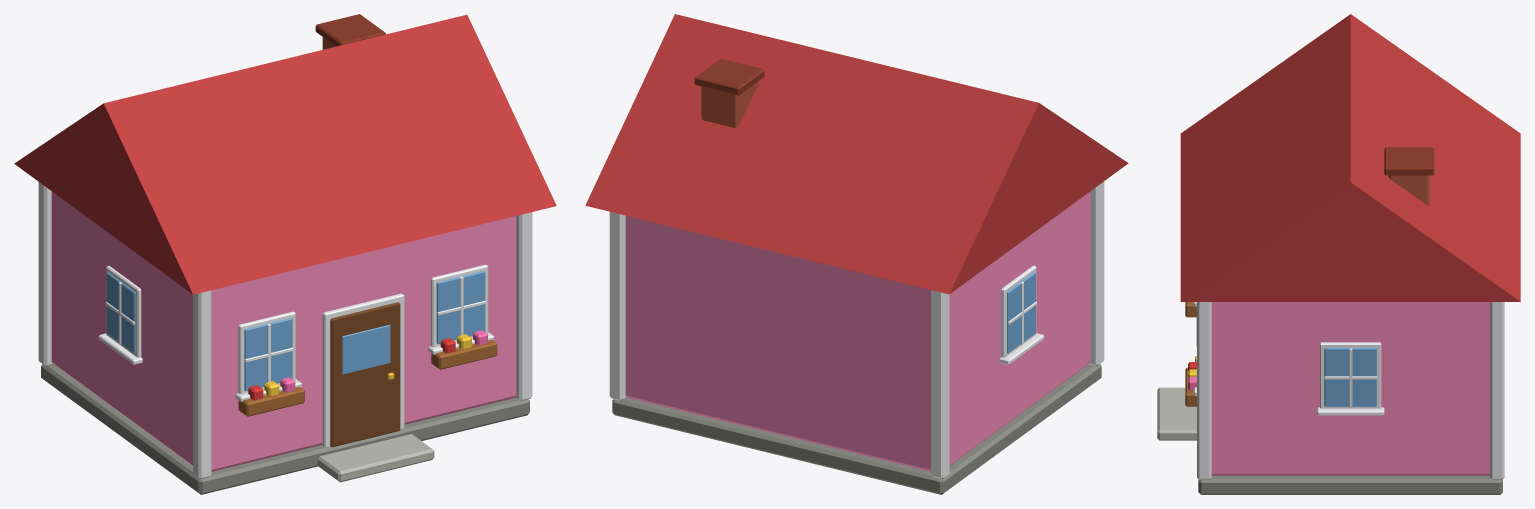
The model's file is PinkHouse.fbx.
3 views of the same model, side by side, from view 1: azimuth 30°, elevation 25°; view 2: azimuth 150°, elevation 25°; view 3: azimuth 270°, elevation 25° (orthographic). The views are drawn at different scales.
Parts seen in each view (by area): view 1: PinkHouse; view 2: PinkHouse; view 3: PinkHouse.
Part boxes in pixels (bbox=[...]): PinkHouse: bbox=[14, 14, 556, 494]; PinkHouse: bbox=[585, 14, 1128, 494]; PinkHouse: bbox=[1157, 14, 1520, 494].
Bounding box in the file's own units: 13.6 × 12.1 × 12.4.
1 material, 1 textured.
